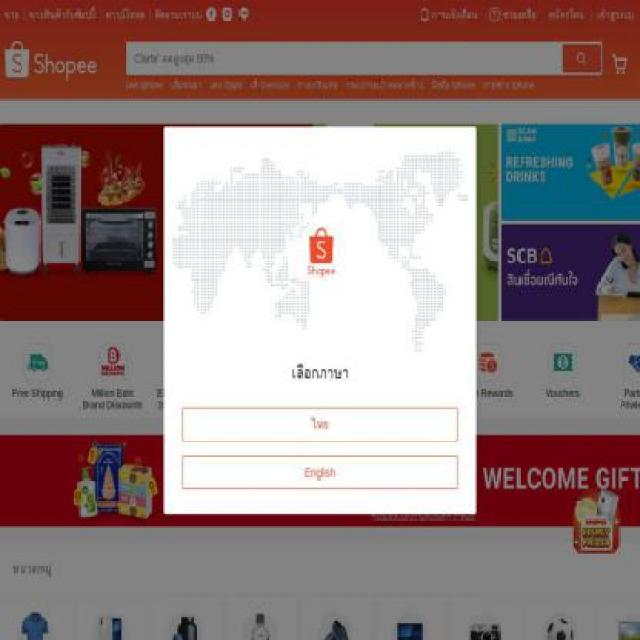button: (211, 140, 429, 500), (501, 124, 639, 221), (501, 224, 639, 321), (182, 407, 458, 441), (182, 456, 458, 490), (0, 40, 126, 89), (6, 328, 69, 418), (231, 328, 294, 418), (306, 328, 369, 418), (82, 328, 143, 418), (157, 328, 218, 418), (382, 328, 443, 418), (457, 328, 518, 418), (532, 328, 593, 418), (569, 486, 622, 556), (0, 594, 75, 639), (75, 595, 151, 639), (225, 595, 301, 639), (375, 595, 451, 639), (525, 595, 601, 639), (150, 595, 225, 639), (300, 595, 375, 639), (450, 595, 525, 639), (606, 328, 640, 419), (600, 595, 640, 639), (418, 0, 478, 29), (562, 44, 601, 73), (345, 78, 424, 91), (483, 78, 535, 91), (432, 78, 476, 91), (297, 78, 338, 91), (250, 78, 290, 91), (125, 78, 164, 91), (210, 78, 242, 91), (172, 78, 202, 91), (0, 7, 25, 21)
field: (134, 44, 563, 73)
